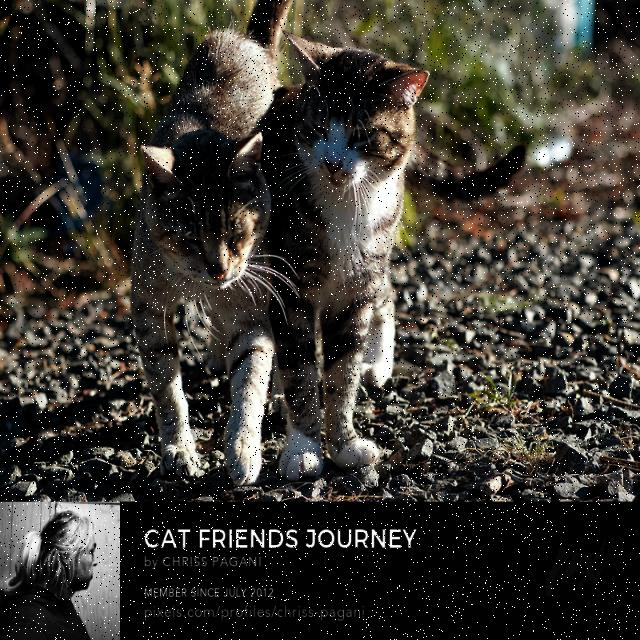cat: (131, 0, 291, 484), (262, 35, 428, 478)
